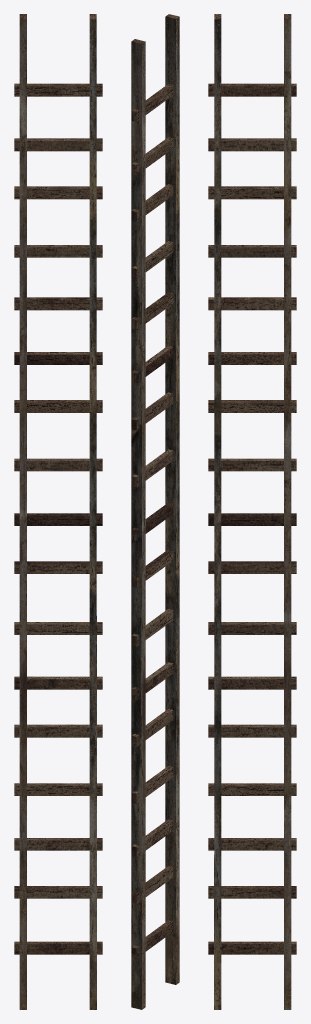
Rendered from Ladder.fbx.
3 views of the same model, side by side, from view 1: azimuth 90°, elevation 25°; view 2: azimuth 150°, elevation 25°; view 3: azimuth 270°, elevation 25° (orthographic). The views are drawn at different scales.
Parts seen in each view (by area): view 1: Ladder2.001; view 2: Ladder2.001; view 3: Ladder2.001.
Boxes of the visible parts, x1=… form: Ladder2.001: x1=14, y1=14, x2=102, y2=1009; Ladder2.001: x1=131, y1=14, x2=179, y2=1009; Ladder2.001: x1=208, y1=14, x2=296, y2=1009.
Size of the model in its own units: 9.01 by 786 by 63.4.
